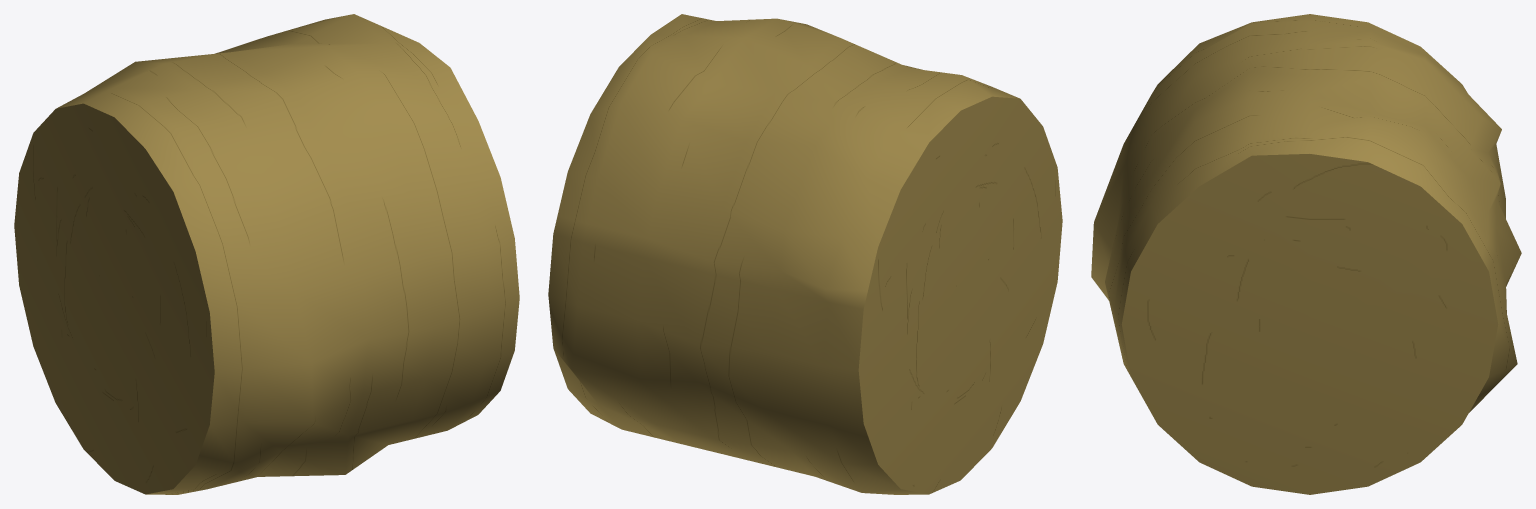
The model's file is Hayball.fbx.
3 renders of one model, left to right at view 1: azimuth 30°, elevation 25°; view 2: azimuth 150°, elevation 25°; view 3: azimuth 270°, elevation 25°, orthographic. The views are drawn at different scales.
Visible parts, largest first — view 1: pCylinder1; view 2: pCylinder1; view 3: pCylinder1.
Part boxes in pixels (box(x1,y1,x2,y2)): pCylinder1: box(14, 14, 519, 494); pCylinder1: box(548, 14, 1062, 494); pCylinder1: box(1091, 14, 1521, 494).
Bounding box in the file's own units: 3.26 × 3.82 × 4.07.
